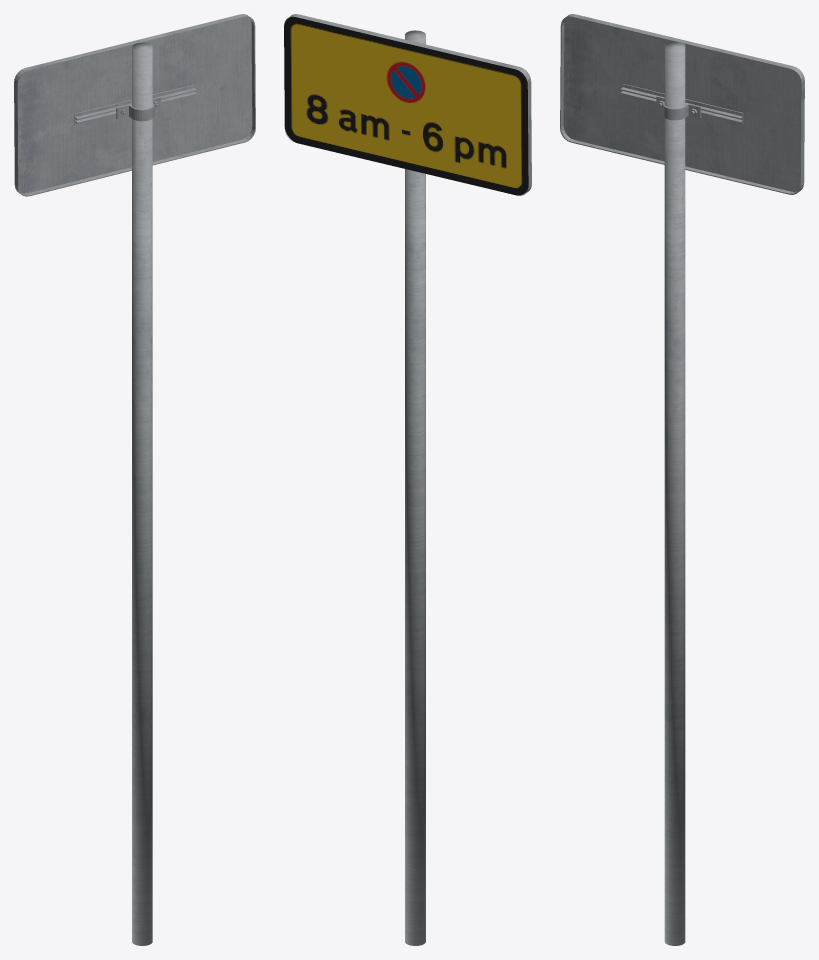
File: Waiting_prohibited_during_period.fbx
3 renders of one model, left to right at view 1: azimuth 30°, elevation 25°; view 2: azimuth 150°, elevation 25°; view 3: azimuth 330°, elevation 25°, orthographic.
Parts seen in each view (by area): view 1: Waiting prohibited during period; view 2: Waiting prohibited during period; view 3: Waiting prohibited during period.
Boxes of the visible parts, box(x1,y1,x2,y2) form: Waiting prohibited during period: box(14, 14, 255, 945); Waiting prohibited during period: box(284, 14, 531, 945); Waiting prohibited during period: box(560, 14, 804, 945).
Bounding box in the file's own units: 0.0941 × 0.8002 × 2.86.
